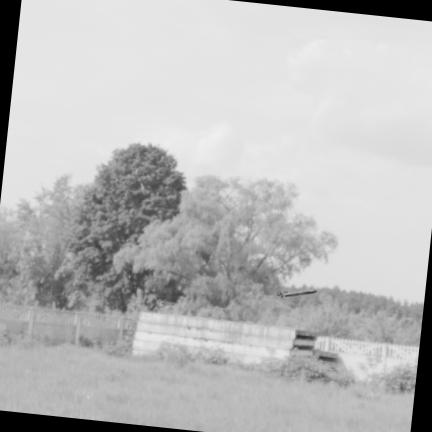Shahed: (277, 290, 317, 297)
